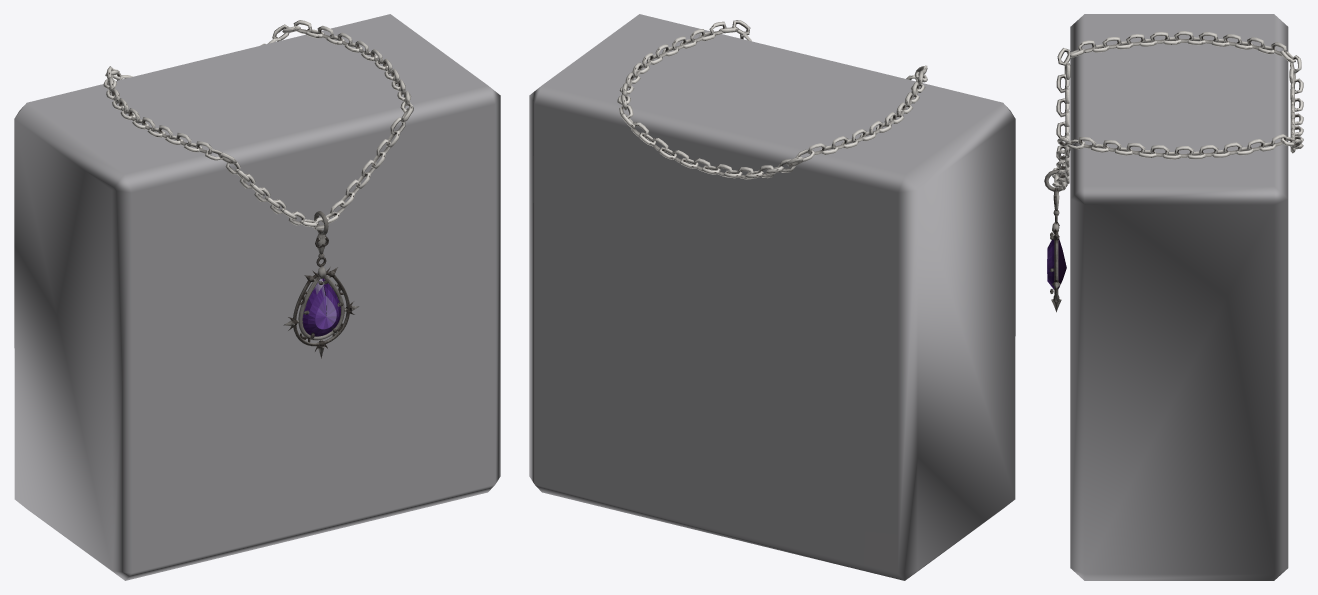
Rendered from Pendant.fbx.
The picture shows the model from 3 angles, left to right: view 1: azimuth 30°, elevation 25°; view 2: azimuth 150°, elevation 25°; view 3: azimuth 270°, elevation 25°; orthographic projection. The views are drawn at different scales.
Parts seen in each view (by area): view 1: Ref_Torso, Pendant_Chain, Pendant_Charm; view 2: Ref_Torso, Pendant_Chain; view 3: Ref_Torso, Pendant_Chain, Pendant_Charm.
Boxes of the visible parts, x1,y1,x2,y2 form: Ref_Torso: (14, 14, 500, 580); Pendant_Chain: (103, 20, 413, 229); Pendant_Charm: (283, 211, 358, 358); Ref_Torso: (529, 14, 1015, 580); Pendant_Chain: (617, 20, 927, 179); Ref_Torso: (1070, 14, 1288, 580); Pendant_Chain: (1052, 31, 1303, 190); Pendant_Charm: (1044, 170, 1067, 312).
Bounding box in the file's own units: 1.99 × 2.05 × 1.18.
Materials: 3 (2 with a texture image).
